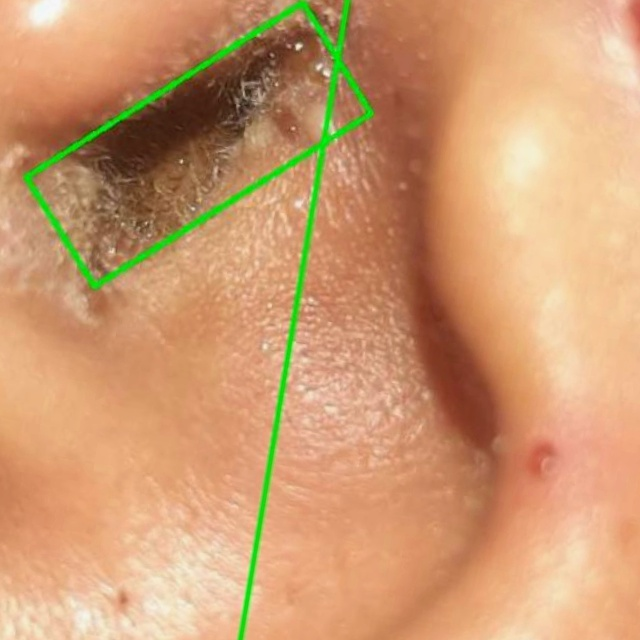Contact Dermatitis: (240, 0, 639, 639), (25, 2, 370, 285)
